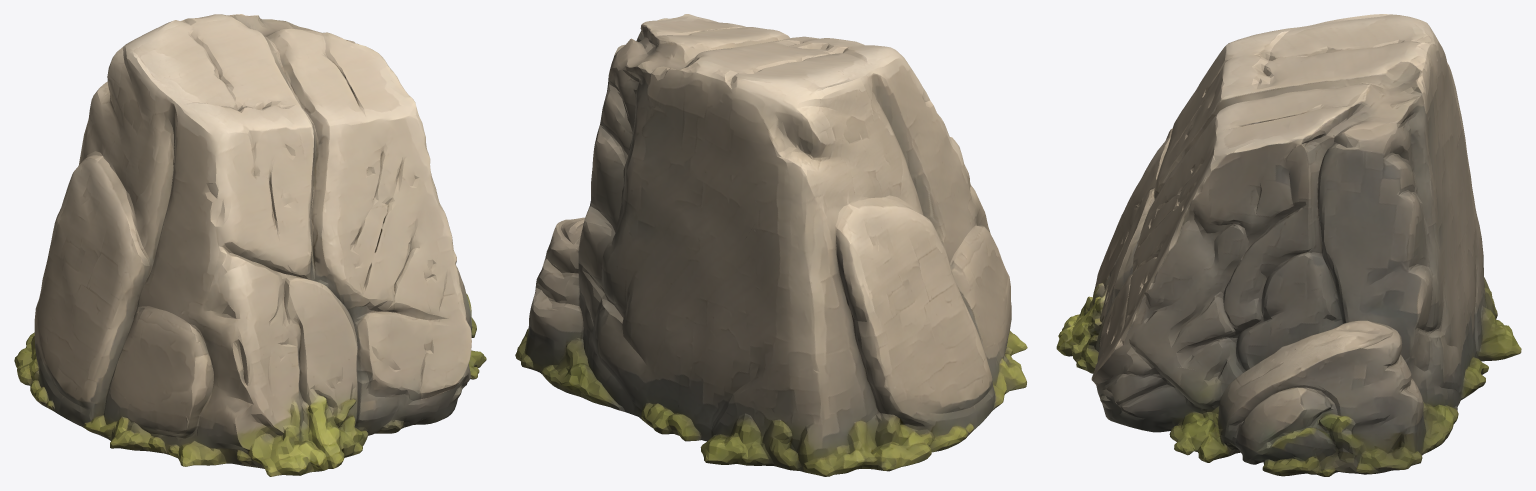
Rendered from boulder-5-lit.glb.
The picture shows the model from 3 angles, left to right: view 1: azimuth 30°, elevation 25°; view 2: azimuth 150°, elevation 25°; view 3: azimuth 270°, elevation 25°; orthographic projection. The views are drawn at different scales.
Visible parts, largest first — view 1: model; view 2: model; view 3: model.
Boxes of the visible parts, x1,y1,x2,y2 form: model: (14,14,486,476); model: (515,14,1027,476); model: (1056,14,1521,476).
Bounding box in the file's own units: 1.9 × 1.42 × 1.83.
1 material, 1 textured.
